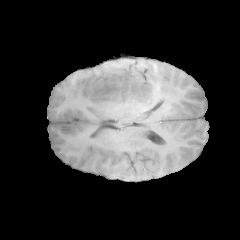glioma: (87, 70, 175, 123)
